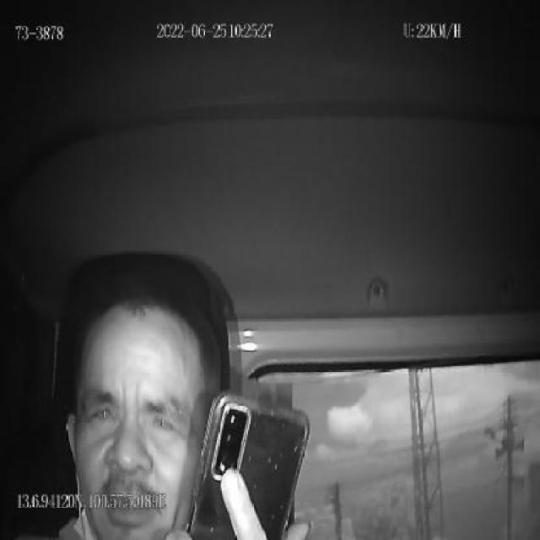phone: (188, 388, 312, 540)
